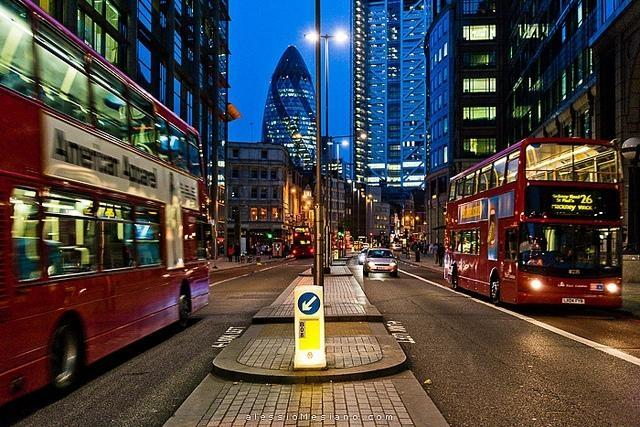bus: (0, 2, 210, 413), (443, 137, 628, 307), (290, 225, 314, 258)
car: (12, 238, 62, 278), (363, 248, 398, 277), (357, 248, 367, 265), (393, 244, 402, 251)
